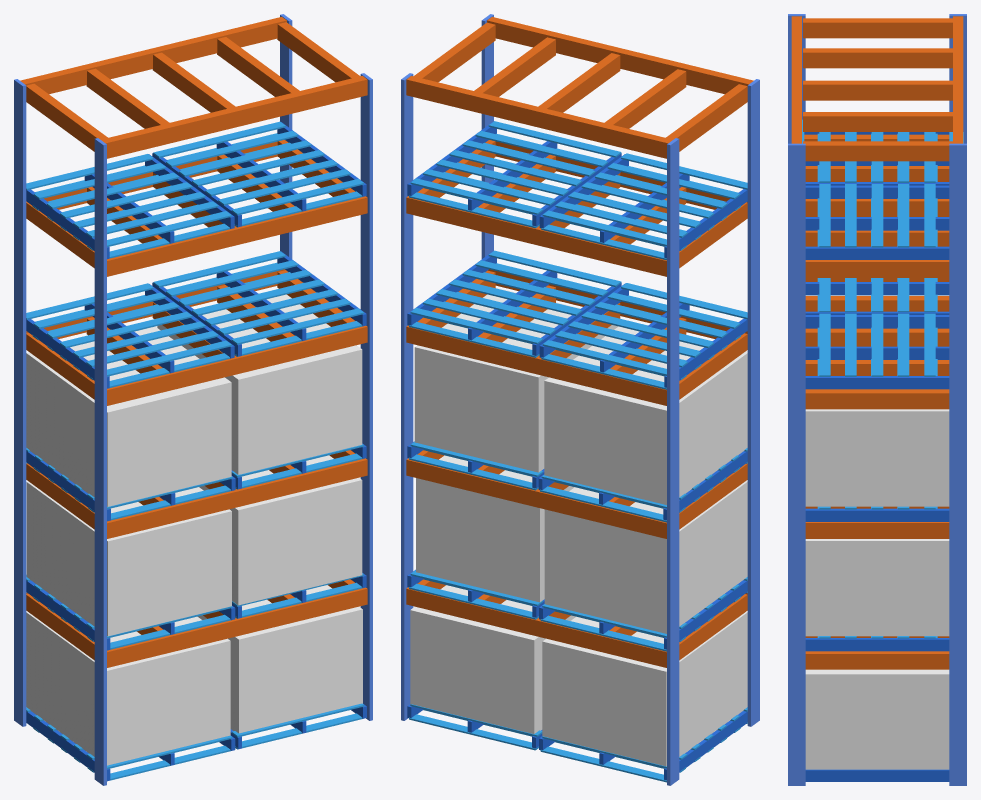
Rendered from mets4_racks.glb.
The picture shows the model from 3 angles, left to right: view 1: azimuth 30°, elevation 25°; view 2: azimuth 150°, elevation 25°; view 3: azimuth 270°, elevation 25°; orthographic projection.
Parts seen in each view (by area): view 1: bars (×8), post (×4), Box6, Box4, Box2, Box5, Box1, Box3, barsH5 (×5), wood10_1 (×7), wood10 (×4), wood7 (×4) (+14 smaller); view 2: bars (×8), post (×4), Box6, Box2, Box4, Box5, Box1, Box3, barsH5 (×5), wood12 (×7), wood2 (×6), wood8 (×4) (+14 smaller); view 3: post (×4), Box1, Box5, Box3, barsH1 (×5), wood1 (×6), barsH3 (×3), barsH4 (×3), barsH2 (×3), wood3 (×4), barsH5 (×3), bars (×2) (+7 smaller).
Boxes of the visible parts, <box> form: bars (×8): <box>20,17,367,667</box>; post (×4): <box>14,14,372,785</box>; Box6: <box>26,326,231,506</box>; Box4: <box>26,481,231,636</box>; Box2: <box>26,611,230,765</box>; Box5: <box>157,294,362,474</box>; Box1: <box>197,585,362,733</box>; Box3: <box>199,455,362,605</box>; barsH5 (×5): <box>26,83,107,660</box>; wood10_1 (×7): <box>109,191,362,618</box>; wood10 (×4): <box>107,179,363,376</box>; wood7 (×4): <box>60,150,324,348</box>; bars (×8): <box>406,17,753,667</box>; post (×4): <box>401,14,759,785</box>; Box6: <box>544,326,747,504</box>; Box2: <box>542,612,747,766</box>; Box4: <box>544,480,747,633</box>; Box5: <box>414,287,618,472</box>; Box1: <box>410,585,575,733</box>; Box3: <box>416,455,574,602</box>; barsH5 (×5): <box>666,84,747,660</box>; wood12 (×7): <box>409,192,666,619</box>; wood2 (×6): <box>410,178,666,606</box>; wood8 (×4): <box>462,140,727,338</box>; post (×4): <box>788,14,966,785</box>; Box1: <box>805,669,949,769</box>; Box5: <box>805,409,949,506</box>; Box3: <box>805,539,949,636</box>; barsH1 (×5): <box>803,141,952,669</box>; wood1 (×6): <box>805,182,949,651</box>; barsH3 (×3): <box>803,80,952,346</box>; barsH4 (×3): <box>803,48,952,311</box>; barsH2 (×3): <box>803,112,952,375</box>; wood3 (×4): <box>805,161,949,359</box>; barsH5 (×3): <box>803,18,952,281</box>; bars (×2): <box>791,16,963,143</box>.
Bounding box in the file's own units: 2.96 × 6.73 × 1.7.
